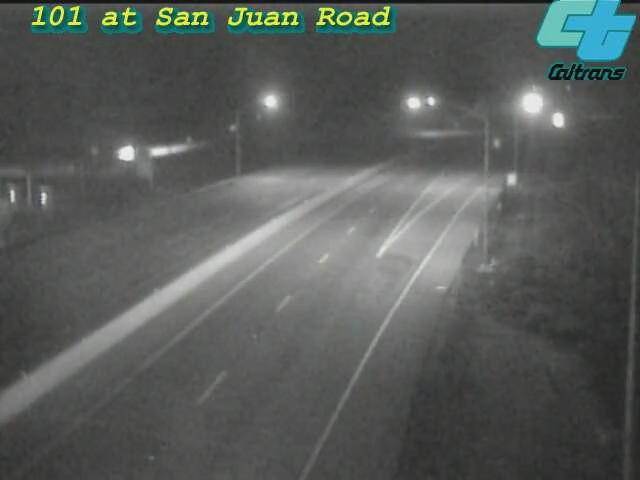vehicle: (531, 96, 581, 146), (506, 78, 556, 128)
